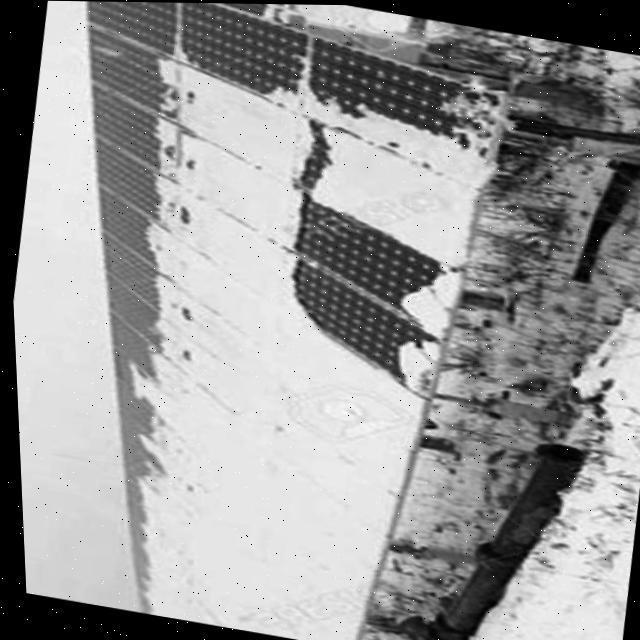Anomaly Solar Panel: (87, 1, 507, 640)
Snow: (147, 53, 497, 640)
